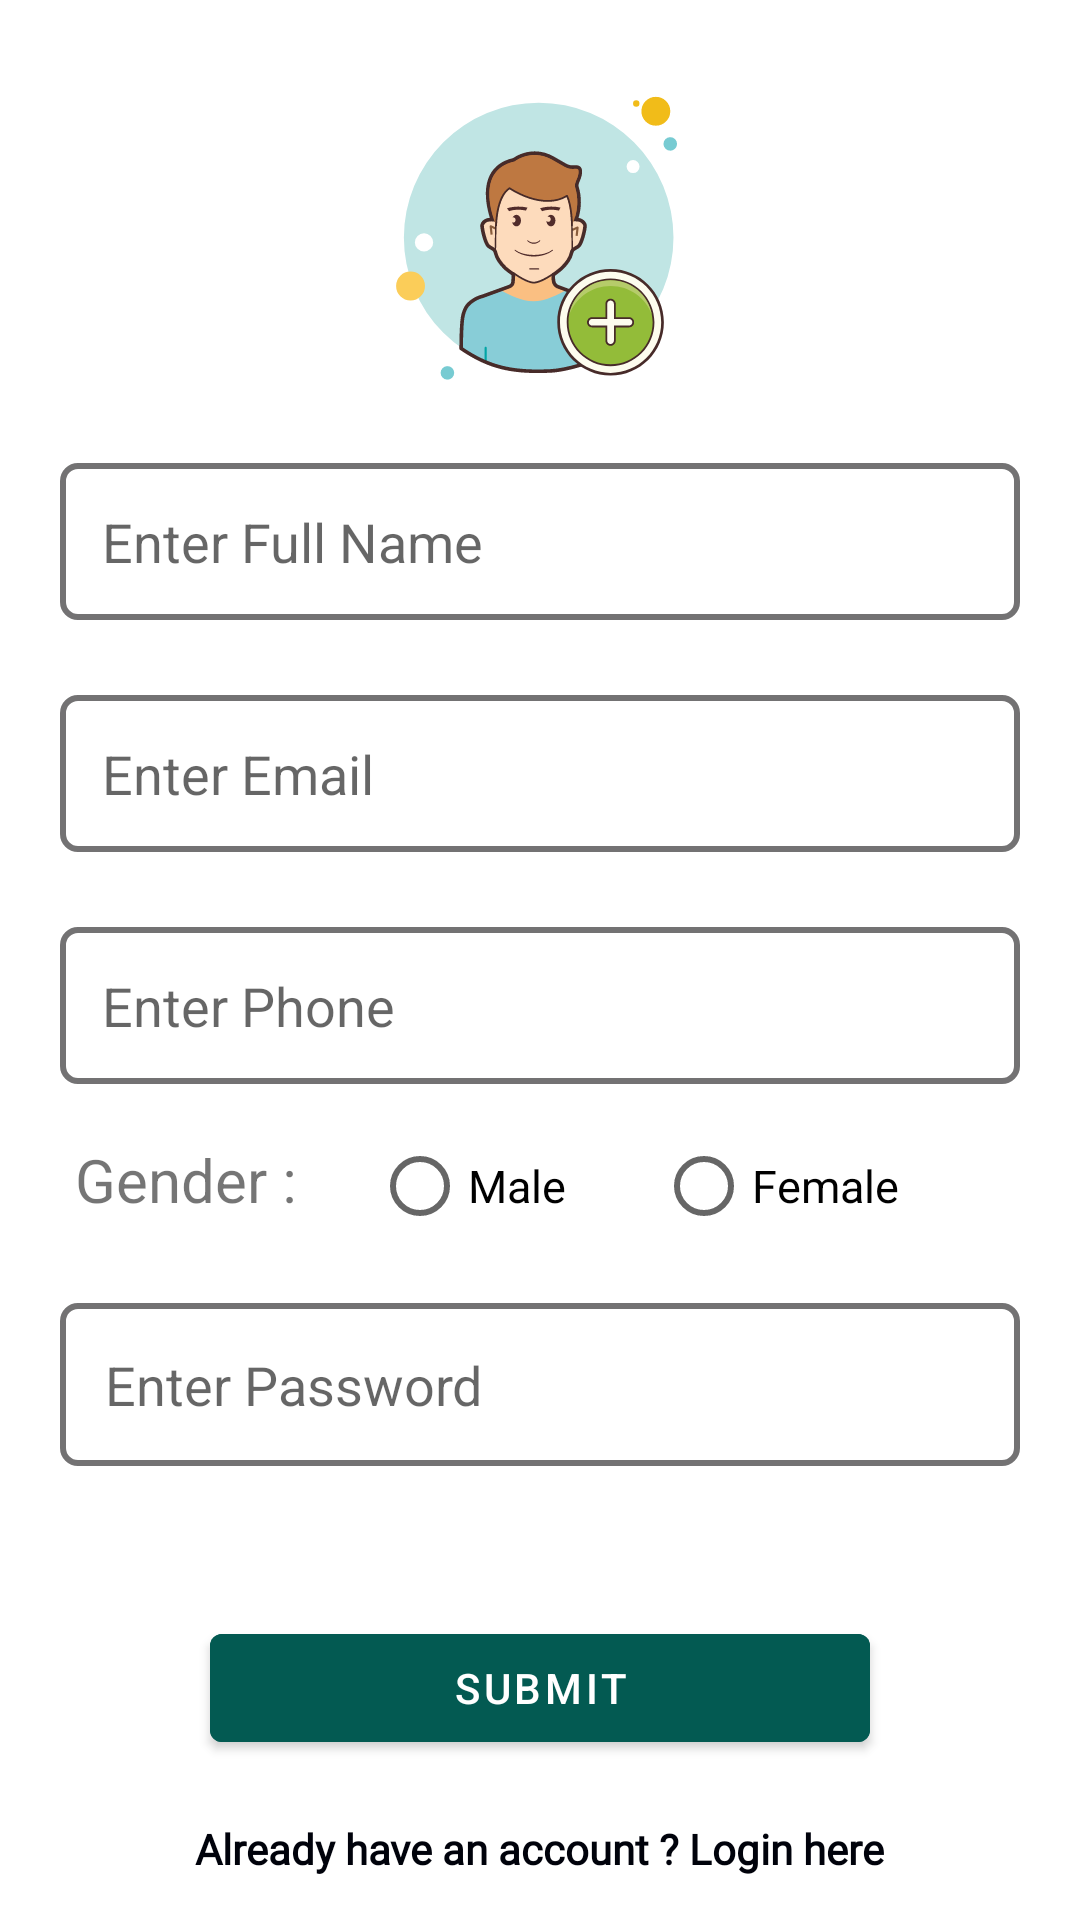

Screen size 1080w x 1920h. Icon name, then its box in pixels as (x1, y1, x2, y2):
signup: (396, 96, 677, 380)
